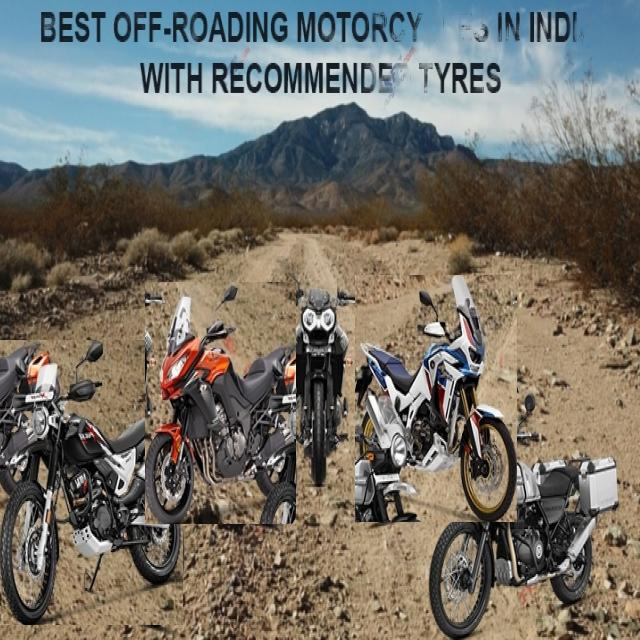motorcycle: (0, 340, 183, 625), (430, 392, 619, 639), (356, 276, 517, 522), (145, 282, 296, 524), (278, 284, 359, 486)
